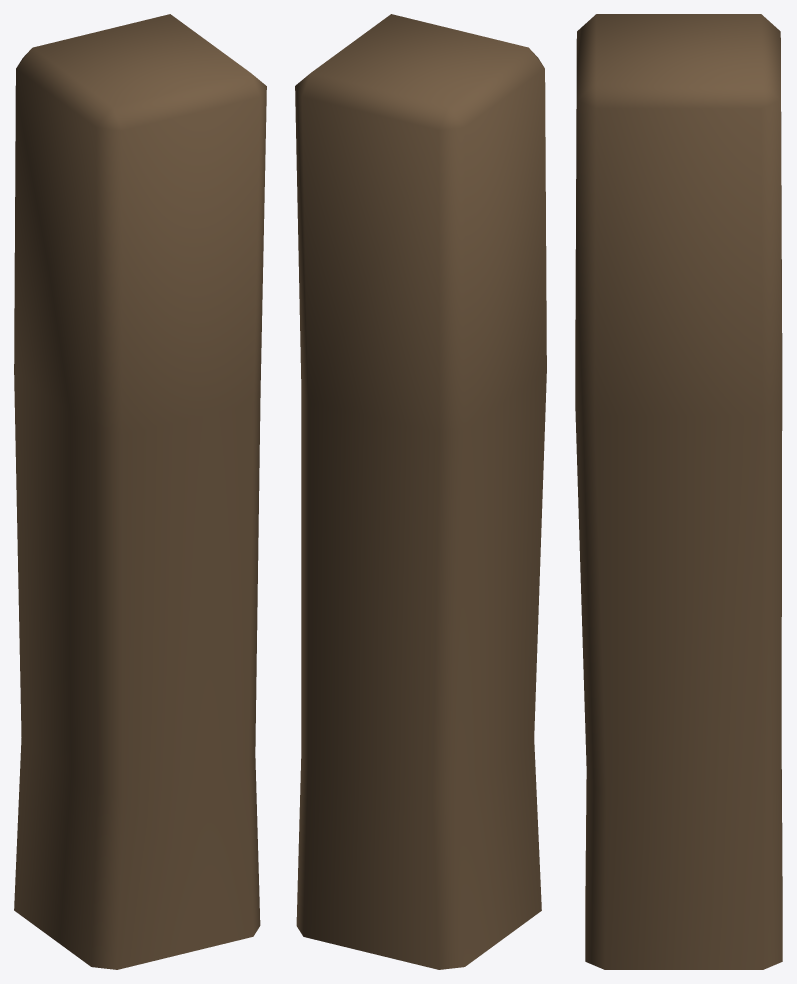
File: rpgpp_av_wall_connector_corner_01a_3m.gltf
3 renders of one model, left to right at view 1: azimuth 30°, elevation 25°; view 2: azimuth 150°, elevation 25°; view 3: azimuth 270°, elevation 25°, orthographic. The views are drawn at different scales.
Visible parts, largest first — view 1: rpgpp_av_wall_connector_corner_01a_3m; view 2: rpgpp_av_wall_connector_corner_01a_3m; view 3: rpgpp_av_wall_connector_corner_01a_3m.
Part boxes in pixels (bbox=[...]): rpgpp_av_wall_connector_corner_01a_3m: bbox=[14, 14, 266, 969]; rpgpp_av_wall_connector_corner_01a_3m: bbox=[295, 14, 546, 969]; rpgpp_av_wall_connector_corner_01a_3m: bbox=[575, 14, 782, 969].
Size of the model in its own units: 0.00627 by 0.03 by 0.0064.
1 material, 1 textured.
